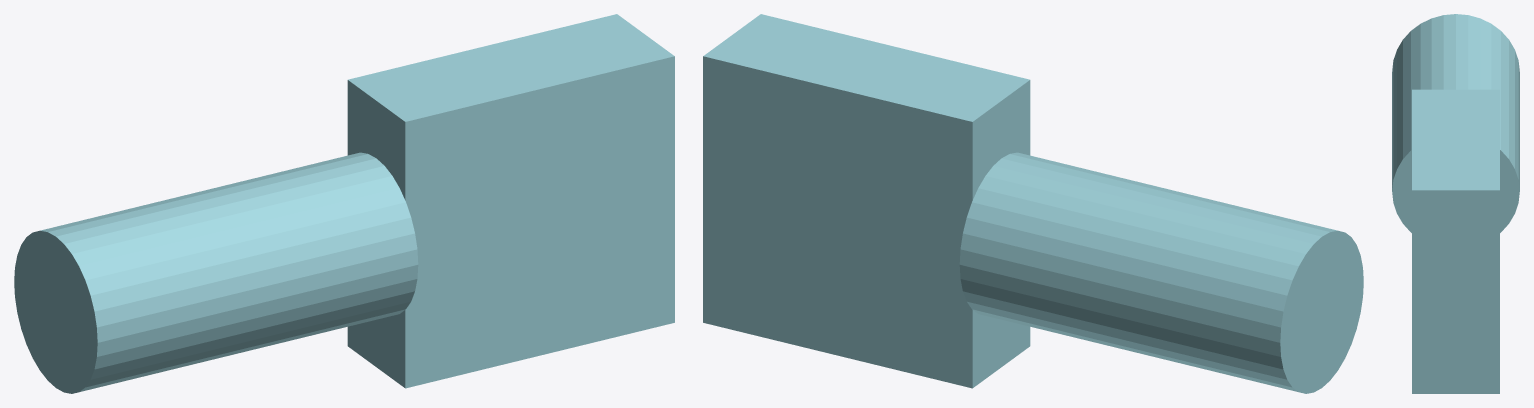
File: cylinder_brush_v11001.obj
3 views of the same model, side by side, from view 1: azimuth 30°, elevation 25°; view 2: azimuth 150°, elevation 25°; view 3: azimuth 270°, elevation 25° (orthographic). The views are drawn at different scales.
Bounding box in the file's own units: 0.1808 × 0.078 × 0.0443.
Materials: 1 (1 with a texture image).
